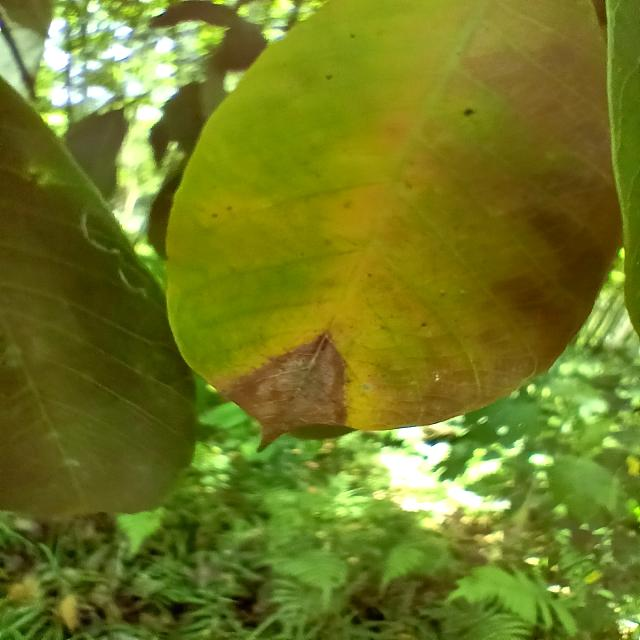Colletotrichum: (462, 107, 475, 117)
Leaf-Blight: (218, 332, 349, 452)
